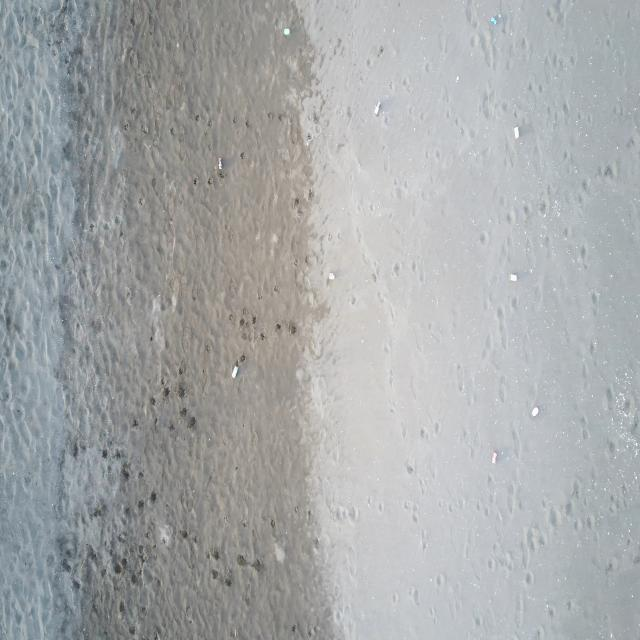Garbage: (216, 156, 223, 178), (489, 13, 500, 24), (373, 100, 380, 115), (512, 125, 519, 139), (232, 363, 238, 377), (491, 449, 496, 463), (327, 272, 335, 280), (508, 272, 516, 280), (216, 157, 221, 169), (531, 407, 537, 416), (283, 27, 288, 35)
